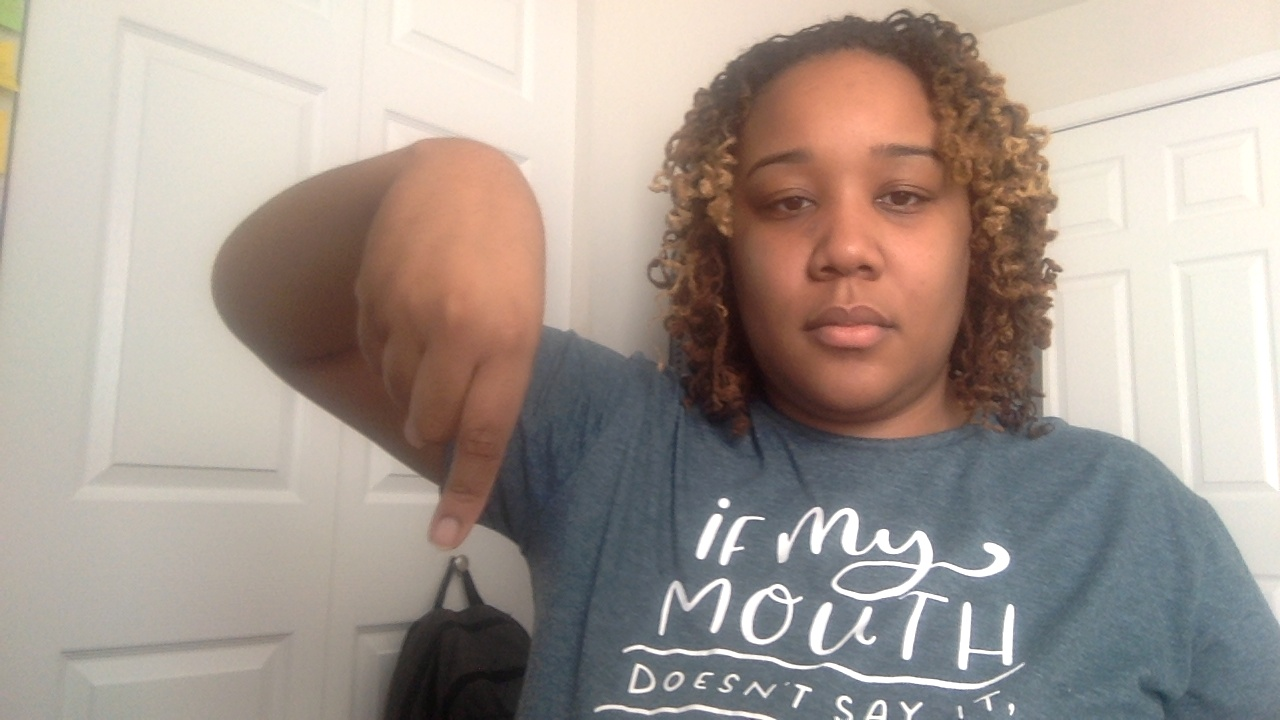down: (212, 124, 549, 566)
